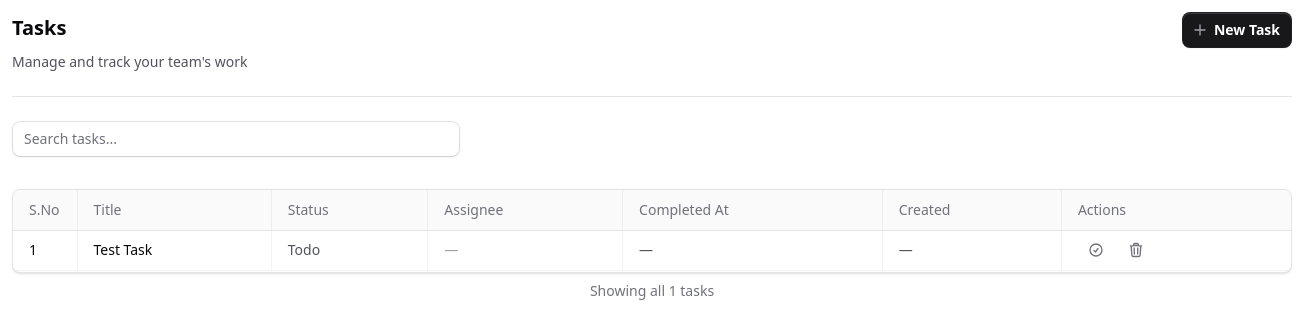
Scenario: TasksList › opens date editor when clicking completedAt cell
The width and height of the screenshot is (1304, 317).
Expected: the row "1 Test Task Todo — — —" is shown, [13,230,1291,270]
// completedAt is the 4th data column (title, status, assignee, completedAt)
Click the 2nd cell "—" at (752,250), box [623,230,882,270]
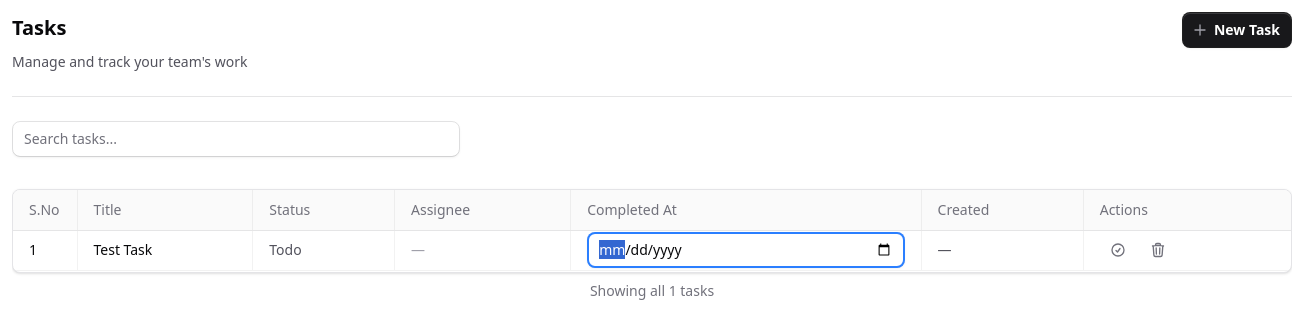
Expected: the date field is shown, [587,232,905,268]
